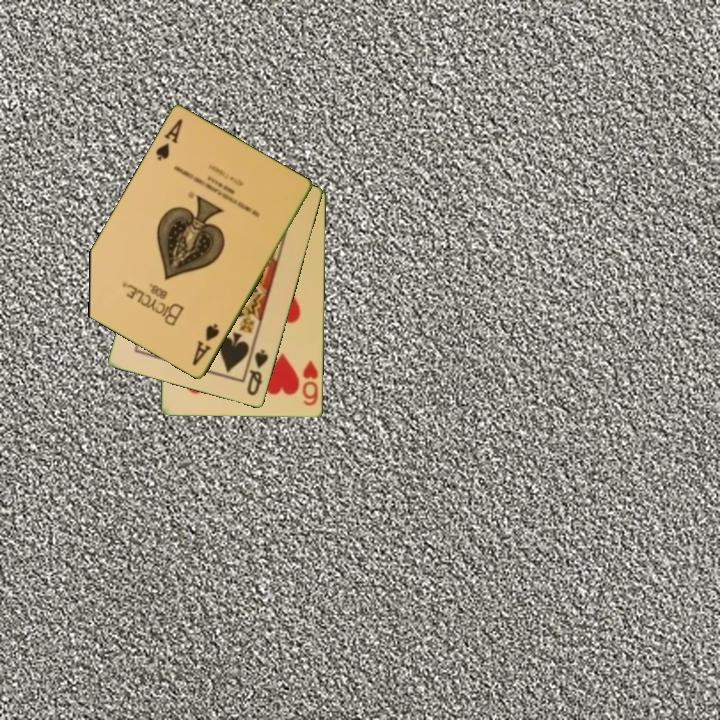6h: (299, 357, 321, 409)
As: (189, 320, 223, 369), (152, 116, 186, 164)
Qs: (244, 346, 272, 399)
